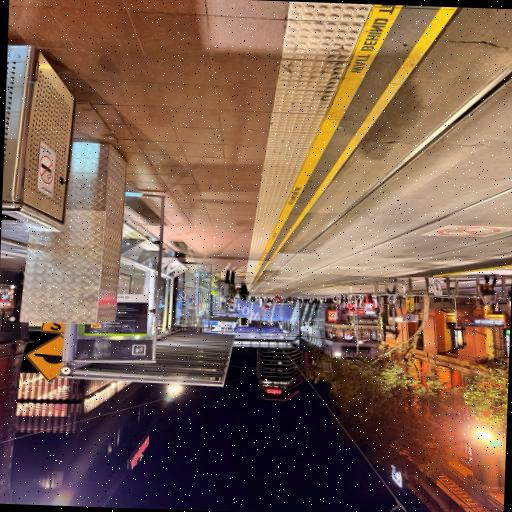Obstruction: (210, 271, 216, 296)
clear_path: (64, 5, 287, 281)
platform_edge: (251, 5, 440, 283)
signage: (84, 294, 150, 336)
tgsi: (245, 1, 371, 284)
